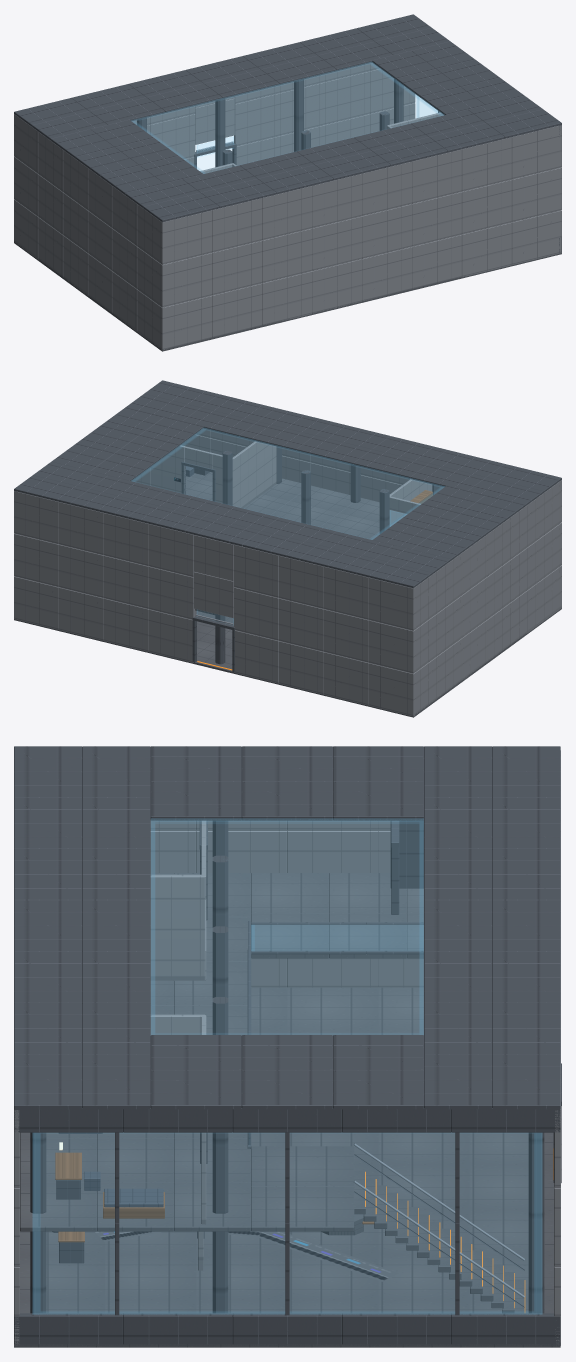
Rendered from preface_residential_sector.glb.
The picture shows the model from 3 angles, top to bottom: view 1: azimuth 30°, elevation 25°; view 2: azimuth 150°, elevation 25°; view 3: azimuth 270°, elevation 25°; orthographic projection. The views are drawn at different scales.
Parts seen in each view (by area): view 1: Residential_Hallway_Atrium, Ground_Service_Vestibule; view 2: Residential_Hallway_Atrium, Ground_Service_Vestibule, Upper_Mezzanine_Walkway, Room_2B_Neighbor_Balcony_Suite, Tech_Apartment_Upper, Open_Portal_Sector_Exit, Open_Portal_202; view 3: Residential_Hallway_Atrium, Upper_Mezzanine_Walkway, Stair_Ramp_Connector, Tech_Apartment_Upper, Room_2B_Neighbor_Balcony_Suite, Ground_Service_Vestibule, Alcove_2C_Upper_Vent_Chase, Side_Room_West_Storage, Open_Arch_2C.
Part boxes in pixels (box(x1,y1,x2,y2)): Residential_Hallway_Atrium: box(14, 14, 561, 351); Ground_Service_Vestibule: box(14, 63, 415, 240); Residential_Hallway_Atrium: box(14, 380, 561, 717); Ground_Service_Vestibule: box(14, 491, 415, 716); Upper_Mezzanine_Walkway: box(186, 472, 379, 539); Room_2B_Neighbor_Balcony_Suite: box(133, 441, 276, 508); Tech_Apartment_Upper: box(389, 479, 432, 526); Open_Portal_Sector_Exit: box(192, 616, 234, 672); Open_Portal_202: box(174, 461, 215, 501); Residential_Hallway_Atrium: box(14, 746, 560, 1347); Upper_Mezzanine_Walkway: box(20, 873, 423, 1231); Stair_Ramp_Connector: box(353, 1143, 525, 1313); Tech_Apartment_Upper: box(150, 820, 206, 980); Room_2B_Neighbor_Balcony_Suite: box(55, 1014, 206, 1224); Ground_Service_Vestibule: box(553, 750, 560, 1345); Alcove_2C_Upper_Vent_Chase: box(390, 820, 423, 888); Side_Room_West_Storage: box(52, 1231, 203, 1270); Open_Arch_2C: box(391, 820, 399, 914).
Bounding box in the file's own units: 28 × 8.91 × 18.04.
4 materials, 4 textured.
